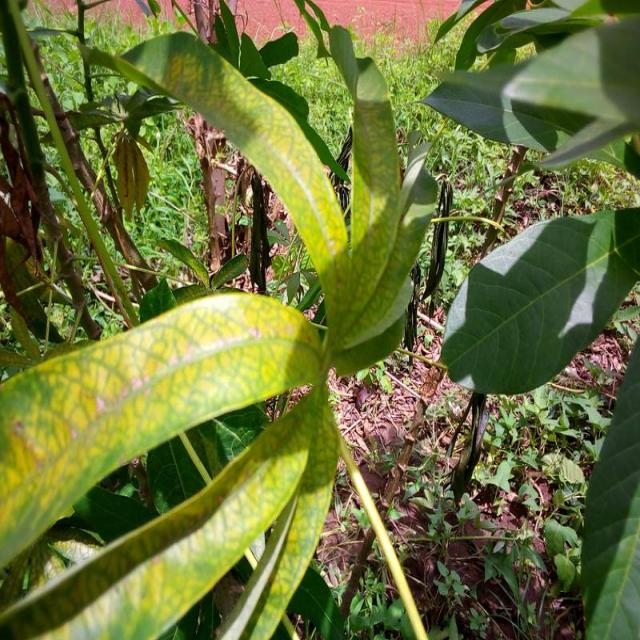cassava leaf: (1, 289, 325, 571), (117, 29, 350, 279), (441, 205, 640, 396)
